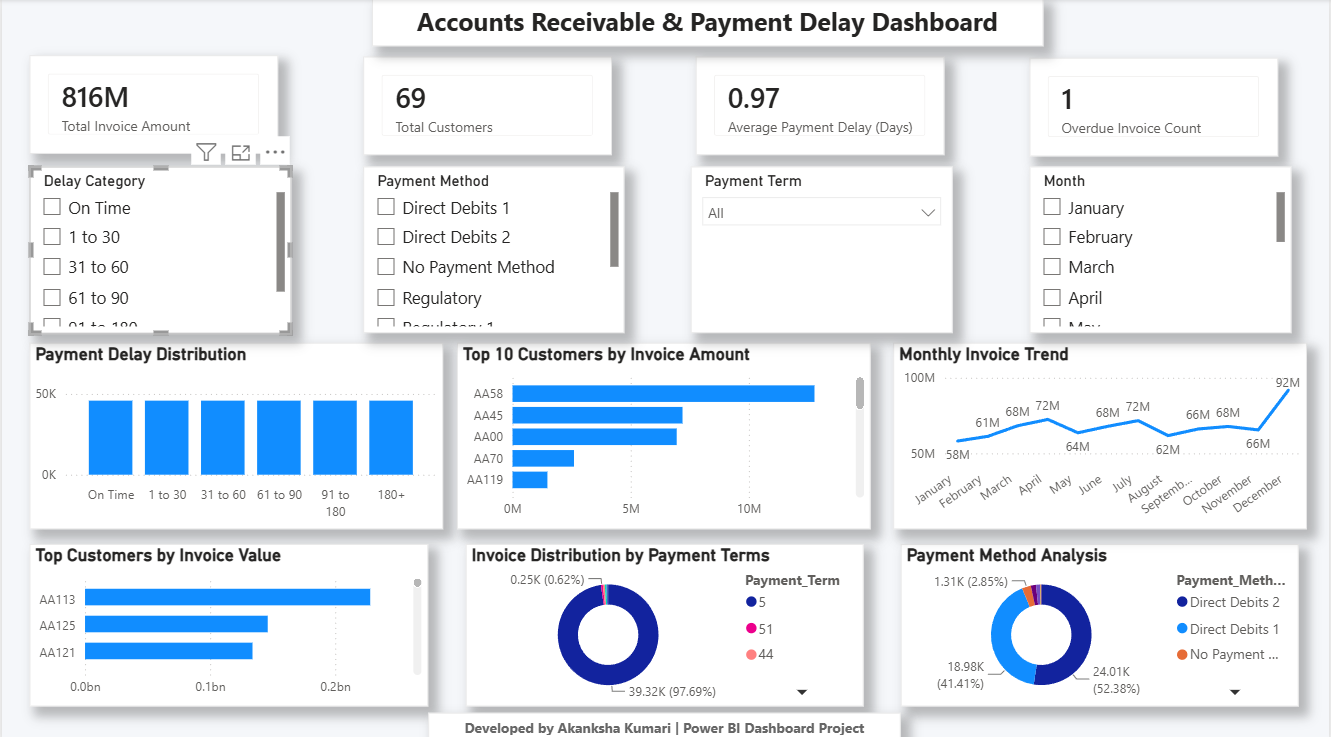

This screenshot's page, from the dashboard's own definition file:
{"tool":"powerbi","page":{"name":"Page 1","canvas":[1280,720],"ordinal":0},"visuals":[{"type":"cardVisual","fields":{"Data":["Sum(Dataset.Amount)"]},"box":[26.1,54.9,240,95],"z":0},{"type":"cardVisual","fields":{"Data":["Count(Dataset.Cust_Num)"]},"box":[348.1,55.3,240,95],"z":1000},{"type":"cardVisual","fields":{"Data":["Avg(Dataset.Days_Overdue_Delay)"]},"box":[670.1,55.8,240,95],"z":2000},{"type":"clusteredColumnChart","title":"Payment Delay Distribution","fields":{"Y":["Count(Dataset.Document_No)"],"Category":["DelayCategoryTable.Delay_Bins"]},"box":[26.5,331.8,399.3,179.8],"z":3000},{"type":"clusteredBarChart","title":"Top 10 Customers by Invoice Amount","fields":{"Category":["Dataset.Customer_Name"],"Y":["Sum(Dataset.Amount)"]},"box":[439.1,331.8,399.3,179.8],"z":4000},{"type":"donutChart","title":"Payment Method Analysis","fields":{"Category":["Dataset.Payment_Method_description"],"Y":["Count(Dataset.Document_No)"]},"box":[867.4,526,384,156.8],"z":5000},{"type":"clusteredBarChart","title":"Top Customers by Invoice Value","fields":{"Y":["Sum(Dataset.Amount)"],"Category":["Dataset.Region"]},"box":[26.5,526,384.9,156.8],"z":5001},{"type":"lineChart","title":"Monthly Invoice Trend","fields":{"Y":["Sum(Dataset.Amount)"],"Category":["Dataset.Posting_Date.Variation.Date Hierarchy.Month"]},"box":[860.2,331.8,399.3,179.8],"z":5003},{"type":"cardVisual","fields":{"Data":["Count(Dataset.DelayFlag)"]},"box":[992.1,56.3,240,95],"z":5004},{"type":"textbox","box":[357.1,0,647.9,45.8],"z":5005},{"type":"slicer","fields":{"Values":["DelayCategoryTable.Delay_Bins"]},"box":[26.1,162.2,252.5,160.5],"z":5006},{"type":"slicer","fields":{"Values":["Dataset.Payment_Method_description"]},"box":[348.5,161.9,252,160.5],"z":5007},{"type":"slicer","fields":{"Values":["Dataset.Payment_Term"]},"box":[664.2,161.9,252.5,160.5],"z":5008},{"type":"slicer","fields":{"Values":["Dataset.Posting_Date.Variation.Date Hierarchy.Month"]},"box":[992.1,161.9,252.5,160.5],"z":5009},{"type":"donutChart","title":"Invoice Distribution by Payment Terms","fields":{"Category":["Dataset.Payment_Term"],"Y":["Count(Dataset.Document_No)"]},"box":[447.6,526,383.6,156.8],"z":5010},{"type":"textbox","box":[412,688.6,456,31.4],"z":5011}]}

Visuals, with their boxes in screenshot pixels (x1, y1, x2, y2), scaled from the page's 1280x720 canvas onto the 1331x737 screenshot:
cardVisual - Sum(Dataset.Amount): x1=27, y1=56, x2=277, y2=153
cardVisual - Count(Dataset.Cust_Num): x1=362, y1=57, x2=612, y2=154
cardVisual - Avg(Dataset.Days_Overdue_Delay): x1=697, y1=57, x2=946, y2=154
"Payment Delay Distribution" clusteredColumnChart: x1=28, y1=340, x2=443, y2=524
"Top 10 Customers by Invoice Amount" clusteredBarChart: x1=457, y1=340, x2=872, y2=524
"Payment Method Analysis" donutChart: x1=902, y1=538, x2=1301, y2=699
"Top Customers by Invoice Value" clusteredBarChart: x1=28, y1=538, x2=428, y2=699
"Monthly Invoice Trend" lineChart: x1=894, y1=340, x2=1310, y2=524
cardVisual - Count(Dataset.DelayFlag): x1=1032, y1=58, x2=1281, y2=155
textbox: x1=371, y1=0, x2=1045, y2=47
slicer - DelayCategoryTable.Delay_Bins: x1=27, y1=166, x2=290, y2=330
slicer - Dataset.Payment_Method_description: x1=362, y1=166, x2=624, y2=330
slicer - Dataset.Payment_Term: x1=691, y1=166, x2=953, y2=330
slicer - Dataset.Posting_Date.Variation.Date Hierarchy.Month: x1=1032, y1=166, x2=1294, y2=330
"Invoice Distribution by Payment Terms" donutChart: x1=465, y1=538, x2=864, y2=699
textbox: x1=428, y1=705, x2=903, y2=736
